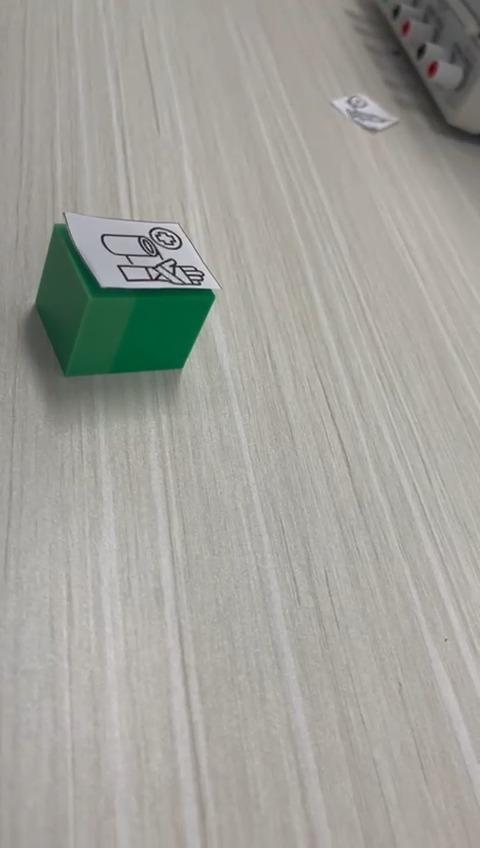Bandages: (37, 213, 222, 378)
